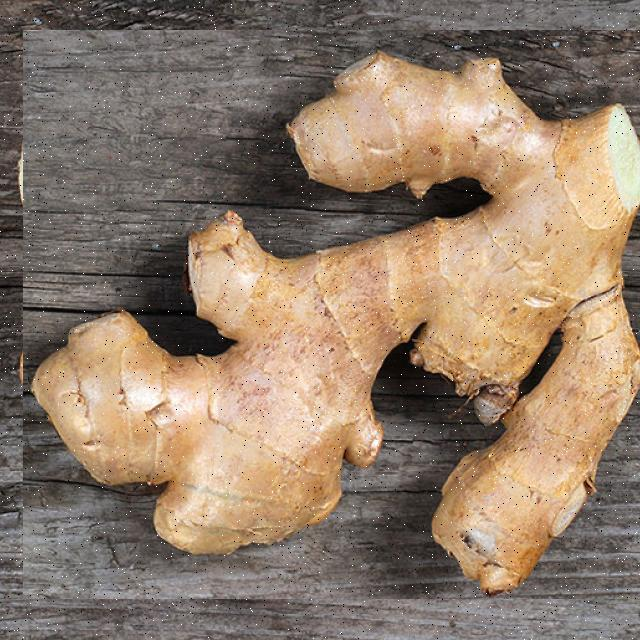ginger: (23, 30, 640, 599)
